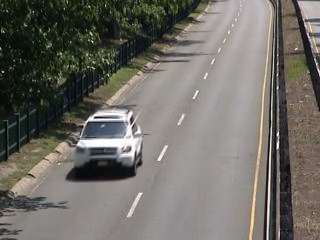car: (66, 105, 148, 179)
